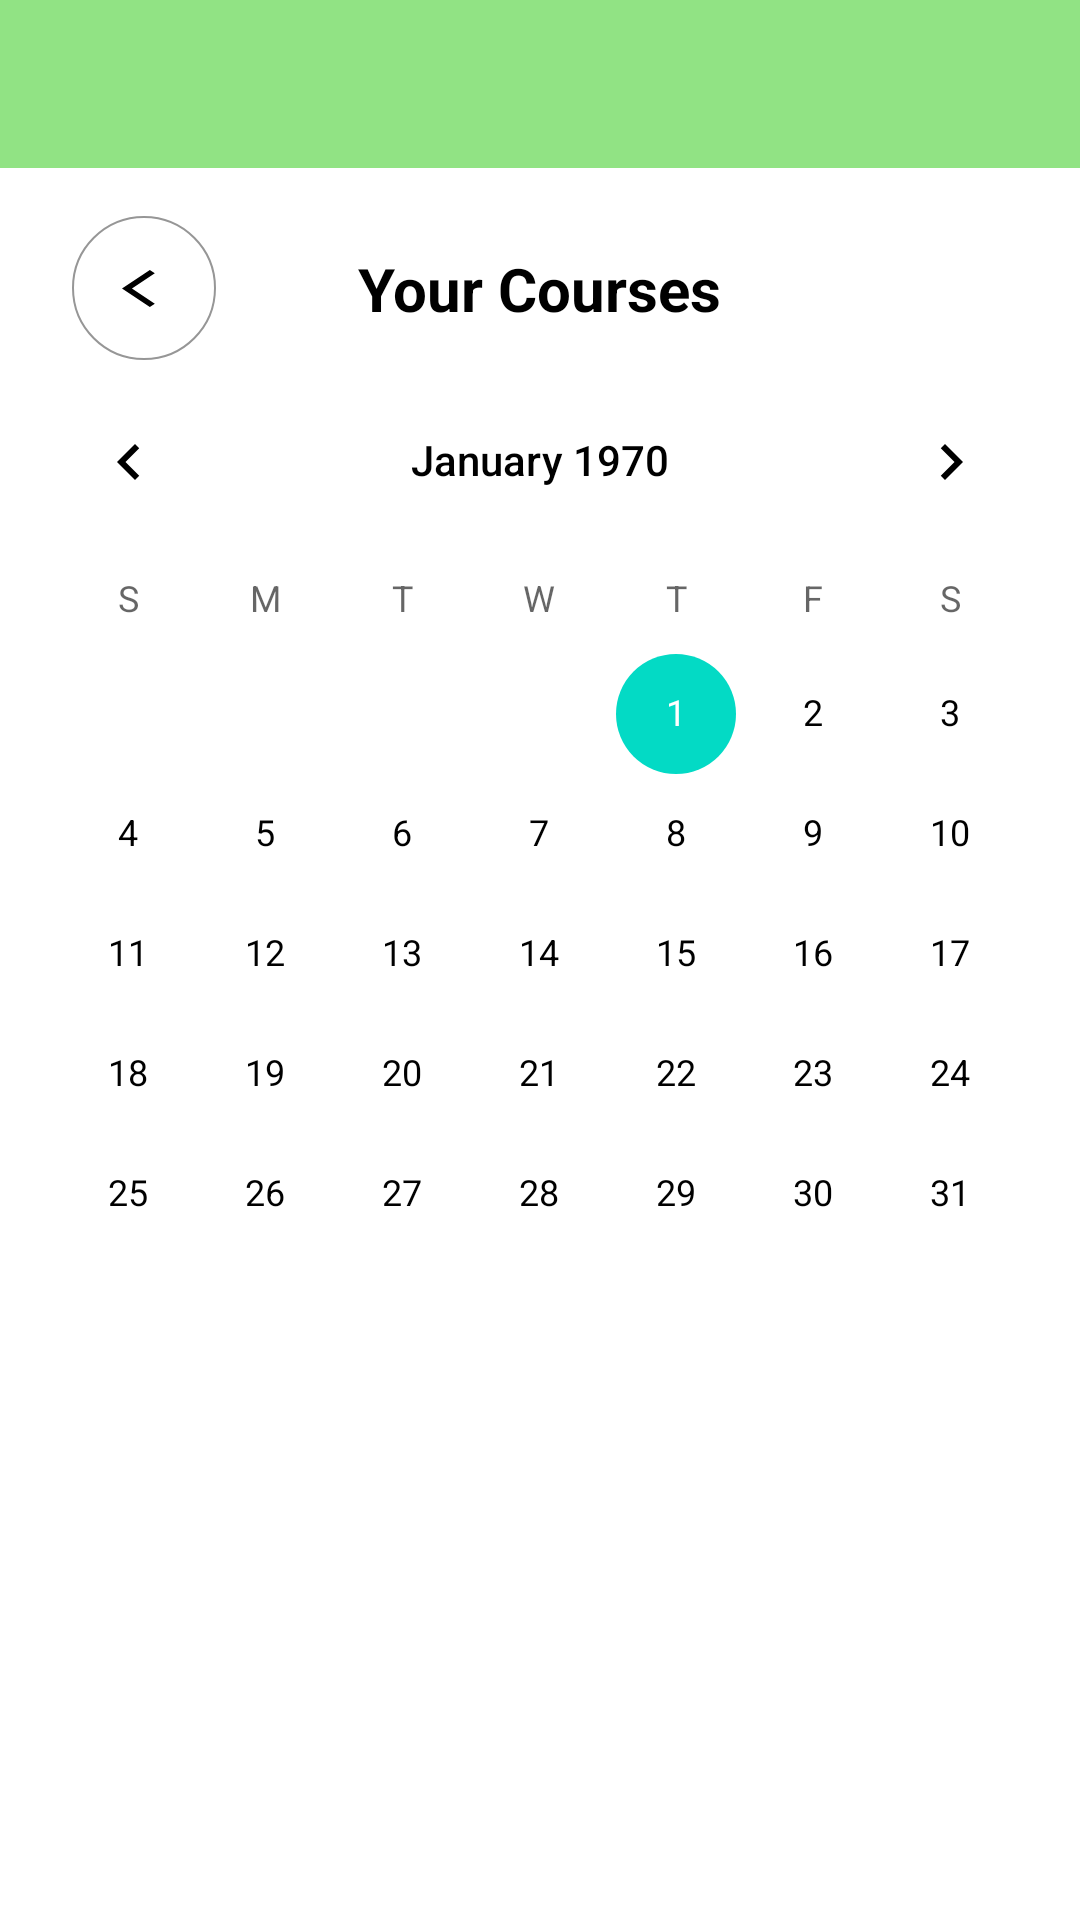

Where icons sit on this 1080 x 1920 app screen, as (x1, y1, x2, y2):
back: (72, 216, 216, 360)
